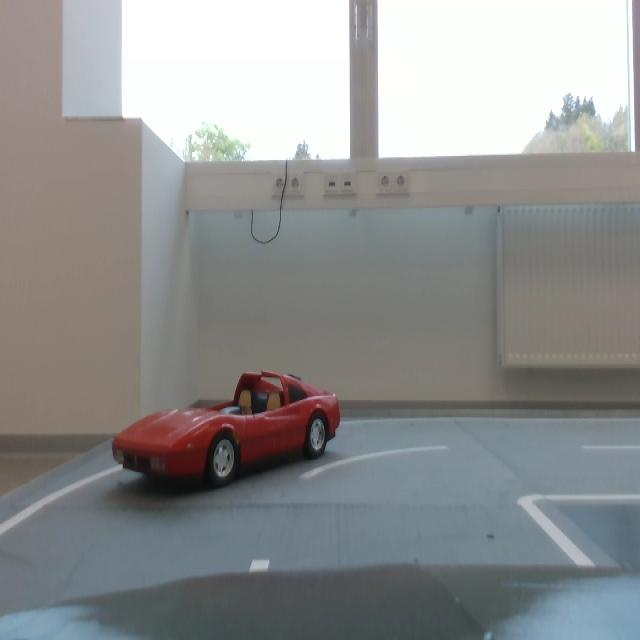car: (111, 362, 345, 490)
